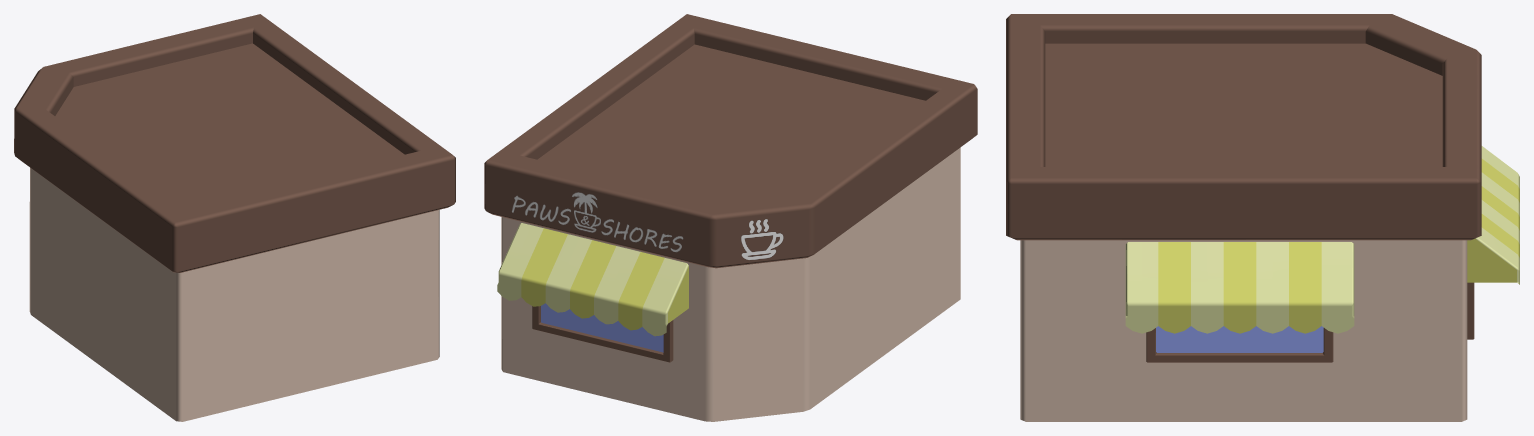
Rendered from CafeExternal.fbx.
3 views of the same model, side by side, from view 1: azimuth 30°, elevation 25°; view 2: azimuth 150°, elevation 25°; view 3: azimuth 270°, elevation 25° (orthographic). The views are drawn at different scales.
Parts seen in each view (by area): view 1: Cafe; view 2: Cafe, WindowShade.001, Window1.008, Cube.307; view 3: Cafe, WindowShade.002, WindowShade.001, Window1.007, Cube.309.
Part boxes in pixels (x1,y1,x2,y2): Cafe: (14, 14, 455, 421); Cafe: (484, 14, 977, 421); WindowShade.001: (497, 223, 688, 336); Window1.008: (541, 303, 663, 352); Cube.307: (532, 306, 673, 362); Cafe: (1006, 14, 1481, 421); WindowShade.002: (1125, 242, 1354, 333); WindowShade.001: (1467, 146, 1519, 284); Window1.007: (1156, 326, 1323, 352); Cube.309: (1146, 328, 1333, 362).
Bounding box in the file's own units: 849 × 535 × 1003.
